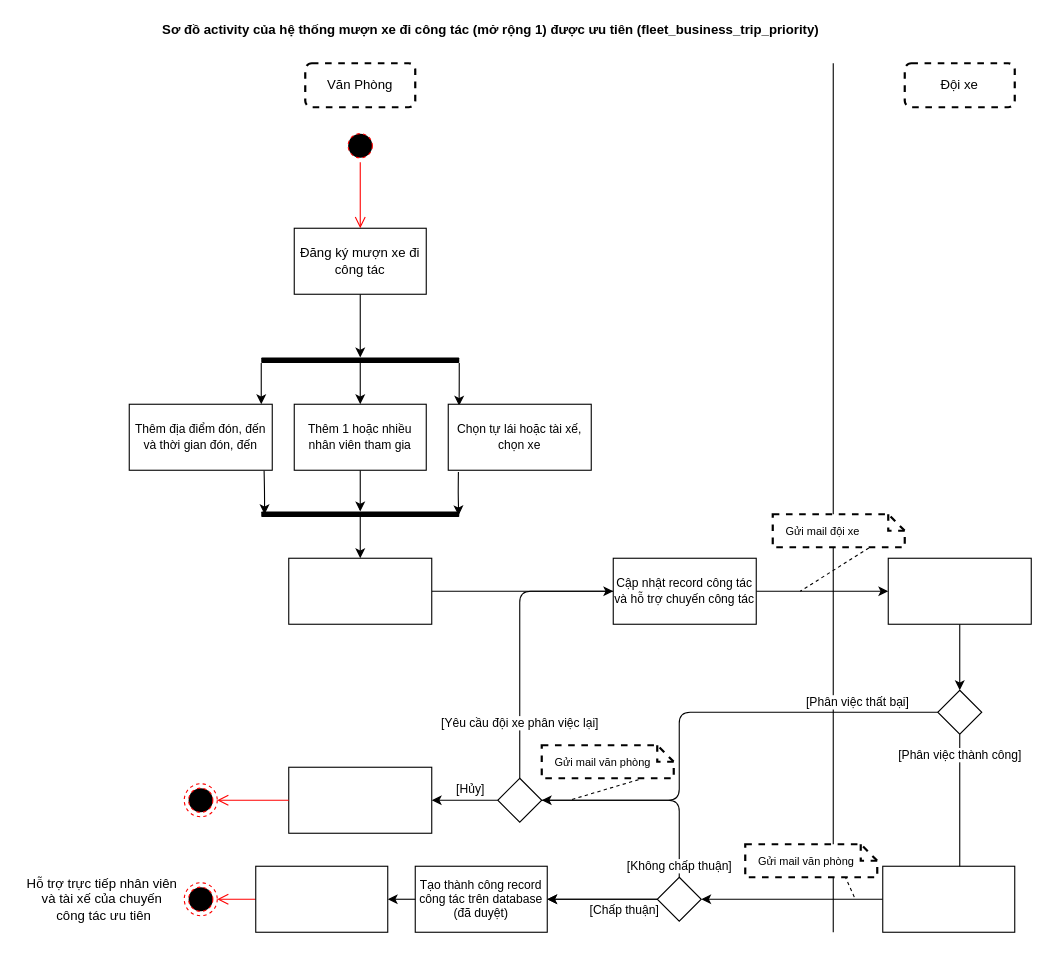
Image size: 1051x953. Some labels were removed from this diagram. Here are the shapes that lost their labels. From the top down, the box of each, then its label:
(288, 557, 432, 624): Tạo thành công record công tác trên database (chưa duyệt)
(887, 557, 1031, 624): Trưởng đội xe phân việc (tài xế/ xe) và cập nhật record công tác
(288, 766, 432, 833): Hủy vĩnh viễn chuyến công tác
(255, 865, 388, 932): Gửi mail đến các nhân viên, tài xế về chuyến công tác ưu tiên
(882, 865, 1015, 932): Yêu cầu văn phòng duyệt lần cuối các thông tin chuyến
